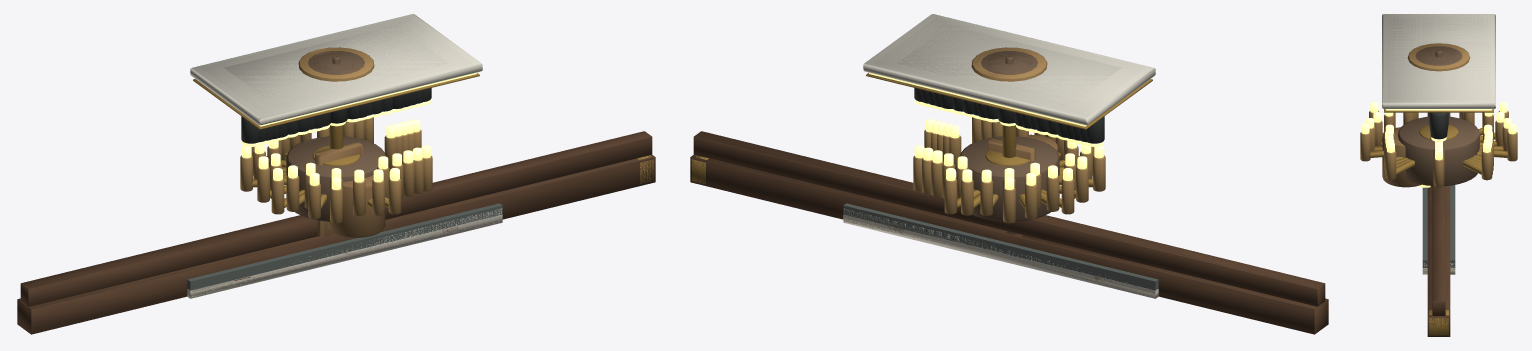
Rendered from asset_058_ceiling_and_beam_kit.glb.
3 renders of one model, left to right at view 1: azimuth 30°, elevation 25°; view 2: azimuth 150°, elevation 25°; view 3: azimuth 270°, elevation 25°, orthographic. The views are drawn at different scales.
Visible parts, largest first — view 1: MESH_DarkWalnutScarfJointBeam, MESH_LightingLedPanelsLuxuryAssembly, MESH_LightingLedPanelsHighEndAssembly, MESH_LightingLuxuryChandeliersLuxuryAssembly, MESH_LightingLedPanelsMunicipalAssembly, MESH_LightingPendantLightingLuxuryAssembly, MESH_CeilingCommercialHighEndCarrier, MESH_LightingLuxuryChandeliersHighEndAssembly, MESH_LightingLedPanelsStandardAssembly, MESH_BeamHalf, MESH_CeilingPanel, MESH_LightingLuxuryChandeliersPremiumAssembly (+9 smaller); view 2: MESH_DarkWalnutScarfJointBeam, MESH_LightingLedPanelsHighEndAssembly, MESH_LightingLedPanelsLuxuryAssembly, MESH_LightingLedPanelsMunicipalAssembly, MESH_BeamHalf, MESH_LightingLuxuryChandeliersLuxuryAssembly, MESH_LightingPendantLightingLuxuryAssembly, MESH_CeilingCommercialHighEndCarrier, MESH_LightingLuxuryChandeliersHighEndAssembly, MESH_LightingLuxuryChandeliersPremiumAssembly, MESH_CeilingPanel, MESH_LightingLedPanelsStandardAssembly (+13 smaller); view 3: MESH_LightingLedPanelsLuxuryAssembly, MESH_LightingLedPanelsHighEndAssembly, MESH_LightingPendantLightingLuxuryAssembly, MESH_LightingLuxuryChandeliersLuxuryAssembly, MESH_DarkWalnutScarfJointBeam, MESH_LightingLuxuryChandeliersHighEndAssembly, MESH_LightingLedPanelsPremiumAssembly, MESH_LightingLuxuryChandeliersPremiumAssembly, MESH_CeilingCommercialHighEndCarrier, MESH_LightingWallSconcesLuxuryAssembly, MESH_LightingLuxuryChandeliersStandardAssembly, MESH_LightingTrackLightingLuxuryAssembly (+6 smaller).
Part boxes in pixels (left/top/right/bottom): MESH_DarkWalnutScarfJointBeam: left=17, top=131, right=655, bottom=334; MESH_LightingLedPanelsLuxuryAssembly: left=190, top=14, right=482, bottom=129; MESH_LightingLedPanelsHighEndAssembly: left=200, top=17, right=472, bottom=113; MESH_LightingLuxuryChandeliersLuxuryAssembly: left=240, top=47, right=432, bottom=223; MESH_LightingLedPanelsMunicipalAssembly: left=224, top=26, right=448, bottom=102; MESH_LightingPendantLightingLuxuryAssembly: left=286, top=51, right=385, bottom=221; MESH_CeilingCommercialHighEndCarrier: left=187, top=203, right=502, bottom=290; MESH_LightingLuxuryChandeliersHighEndAssembly: left=251, top=48, right=423, bottom=219; MESH_LightingLedPanelsStandardAssembly: left=222, top=22, right=454, bottom=107; MESH_BeamHalf: left=18, top=233, right=334, bottom=332; MESH_CeilingPanel: left=187, top=208, right=502, bottom=298; MESH_LightingLuxuryChandeliersPremiumAssembly: left=253, top=50, right=414, bottom=215; MESH_DarkWalnutScarfJointBeam: left=690, top=131, right=1328, bottom=334; MESH_LightingLedPanelsHighEndAssembly: left=873, top=17, right=1145, bottom=113; MESH_LightingLedPanelsLuxuryAssembly: left=863, top=14, right=1155, bottom=129; MESH_LightingLedPanelsMunicipalAssembly: left=897, top=25, right=1121, bottom=102; MESH_BeamHalf: left=1005, top=231, right=1327, bottom=332; MESH_LightingLuxuryChandeliersLuxuryAssembly: left=913, top=47, right=1105, bottom=223; MESH_LightingPendantLightingLuxuryAssembly: left=960, top=51, right=1059, bottom=221; MESH_CeilingCommercialHighEndCarrier: left=843, top=203, right=1158, bottom=290; MESH_LightingLuxuryChandeliersHighEndAssembly: left=922, top=48, right=1094, bottom=219; MESH_LightingLuxuryChandeliersPremiumAssembly: left=931, top=50, right=1092, bottom=215; MESH_CeilingPanel: left=843, top=208, right=1158, bottom=298; MESH_LightingLedPanelsStandardAssembly: left=891, top=23, right=1123, bottom=107; MESH_LightingLedPanelsLuxuryAssembly: left=1382, top=14, right=1495, bottom=112; MESH_LightingLedPanelsHighEndAssembly: left=1387, top=16, right=1490, bottom=99; MESH_LightingPendantLightingLuxuryAssembly: left=1398, top=46, right=1479, bottom=185; MESH_LightingLuxuryChandeliersLuxuryAssembly: left=1360, top=43, right=1517, bottom=187; MESH_DarkWalnutScarfJointBeam: left=1427, top=112, right=1450, bottom=336; MESH_LightingLuxuryChandeliersHighEndAssembly: left=1366, top=44, right=1511, bottom=174; MESH_LightingLedPanelsPremiumAssembly: left=1390, top=18, right=1487, bottom=70; MESH_LightingLuxuryChandeliersPremiumAssembly: left=1373, top=46, right=1504, bottom=170; MESH_CeilingCommercialHighEndCarrier: left=1422, top=185, right=1455, bottom=268; MESH_LightingWallSconcesLuxuryAssembly: left=1382, top=127, right=1434, bottom=199; MESH_LightingLuxuryChandeliersStandardAssembly: left=1384, top=50, right=1493, bottom=165; MESH_LightingTrackLightingLuxuryAssembly: left=1430, top=112, right=1447, bottom=141.
Size of the model in its own units: 3.6 by 1.08 by 0.9602.
Materials: 56 (1 with a texture image).
